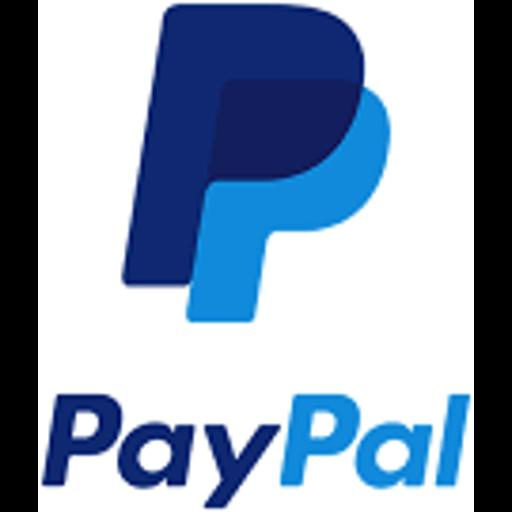PayPal: (38, 0, 474, 512)
